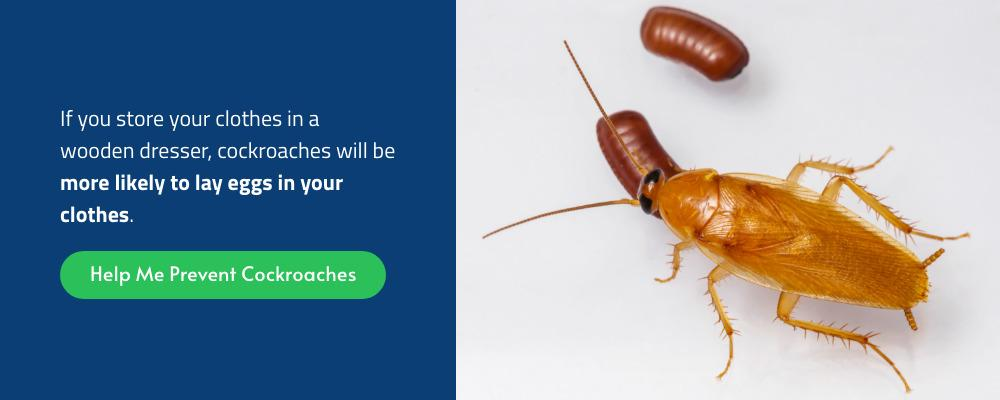cockroach: (626, 155, 938, 334)
